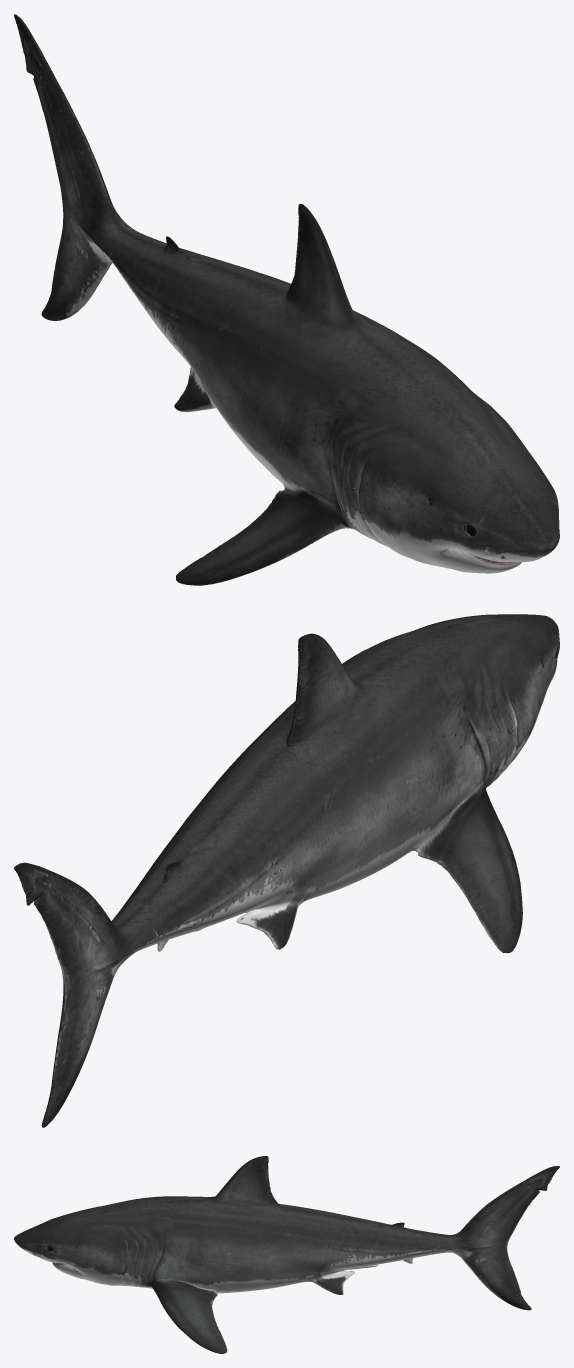
Rendered from weisser_hai_original.glb.
3 renders of one model, top to bottom at view 1: azimuth 30°, elevation 25°; view 2: azimuth 150°, elevation 25°; view 3: azimuth 270°, elevation 25°, orthographic. The views are drawn at different scales.
Size of the model in its own units: 0.69 by 0.6011 by 1.9.
1 material, 1 textured.
